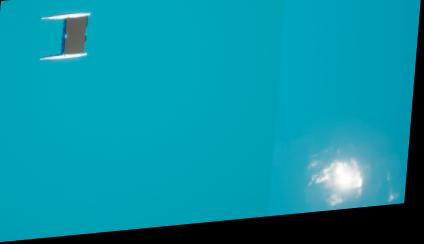boat: (37, 8, 93, 63)
drone: (64, 17, 86, 55)
land_base: (290, 142, 413, 220)
